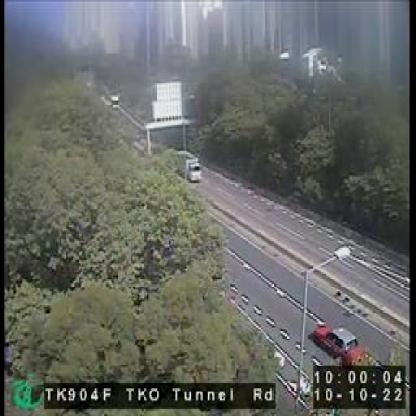Car: (310, 324, 362, 368)
Truck: (174, 152, 200, 184)
